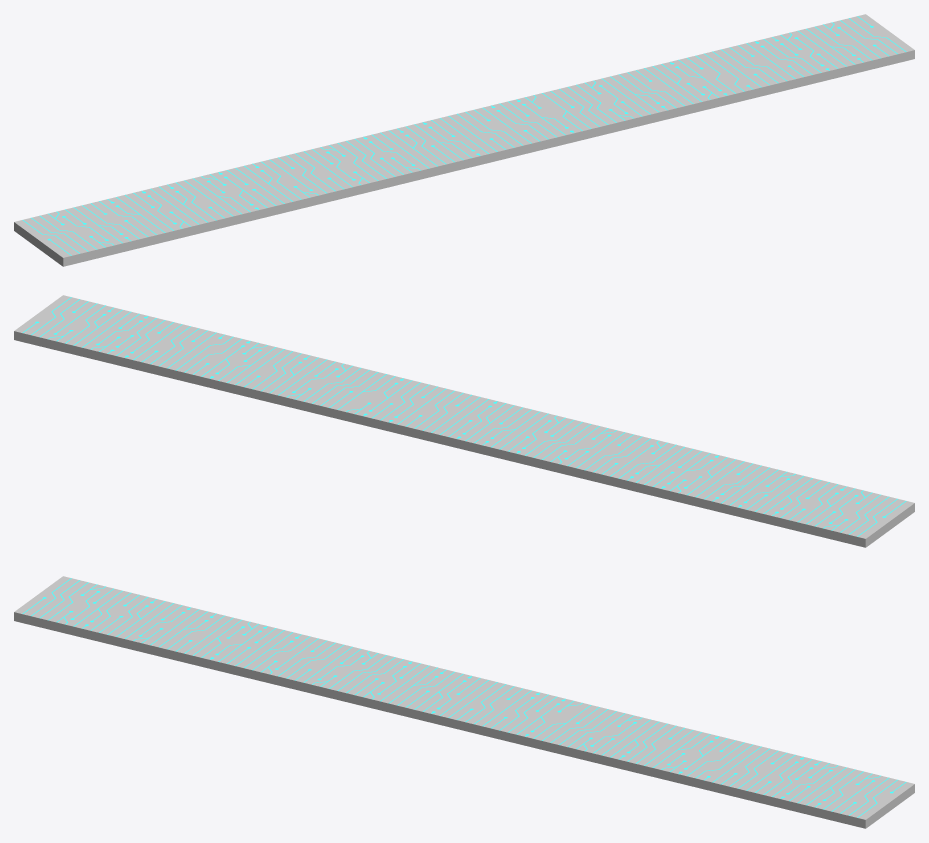
The model's file is floor_metallic1.glb.
3 views of the same model, one above another, from view 1: azimuth 30°, elevation 25°; view 2: azimuth 150°, elevation 25°; view 3: azimuth 330°, elevation 25° (orthographic).
Visible parts, largest first — view 1: Cube.008, Plane.038; view 2: Cube.008, Plane.038; view 3: Cube.008, Plane.038.
Boxes of the visible parts, x1,y1,x2,y2 form: Cube.008: [14, 14, 914, 266]; Plane.038: [22, 16, 906, 255]; Cube.008: [14, 295, 914, 547]; Plane.038: [22, 297, 906, 536]; Cube.008: [14, 576, 914, 828]; Plane.038: [22, 578, 906, 817].
Size of the model in its own units: 200 by 2.01 by 20.
